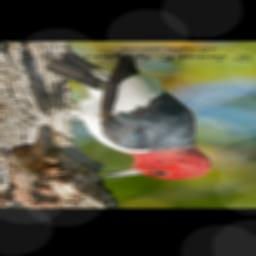Woodpecker: (34, 50, 210, 181)
